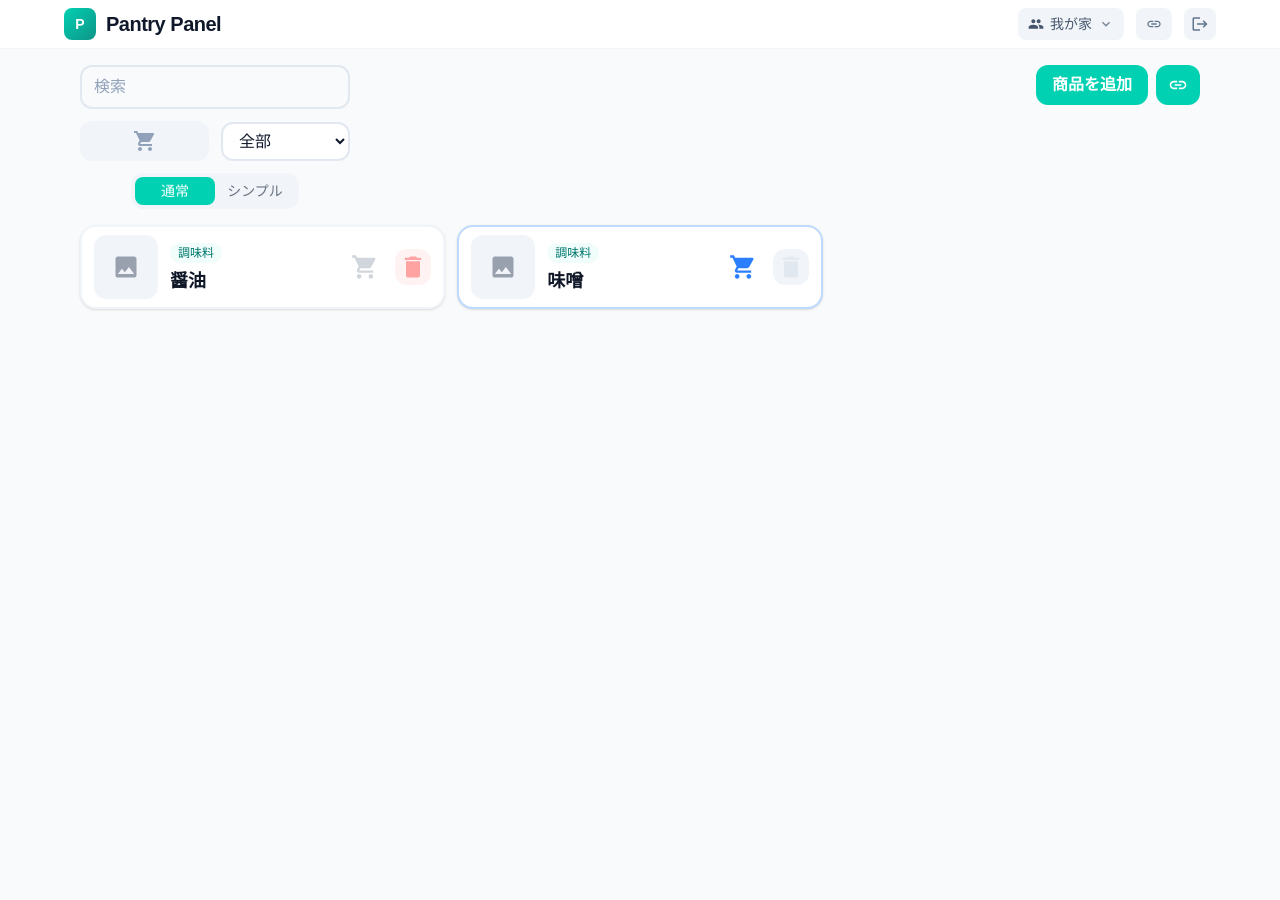
Test case: StockItemsClient › カテゴリフィルタ選択済み状態で「商品を追加」を押すと CreateItemModal のカテゴリフィールドに初期値がセットされる
The image size is (1280, 900).
Check: the heading "醤油" is shown, box 170,270 -> 206,290
Select "調味料" in the dropdown named "カテゴリ": (286, 141) 221,122 -> 350,160
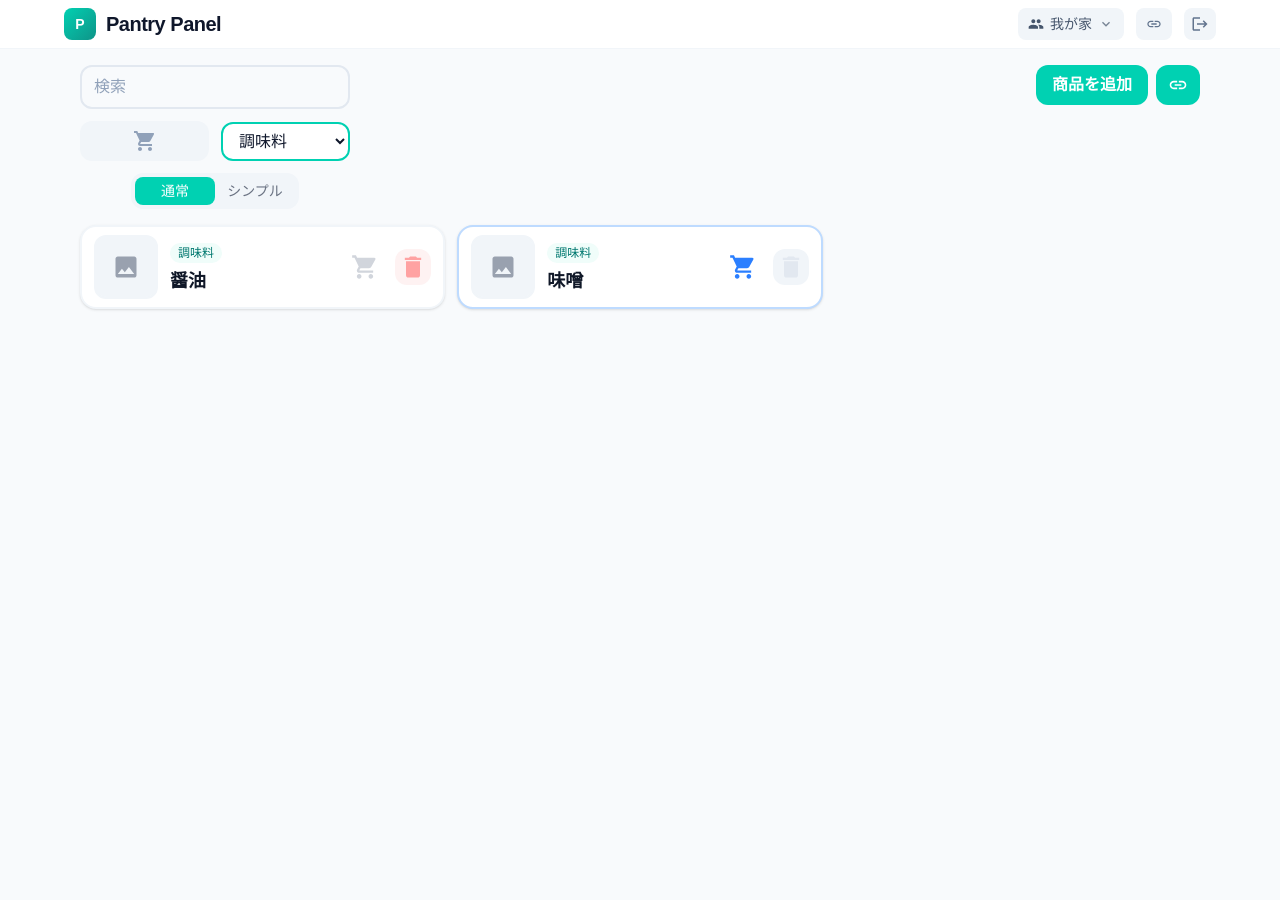
Click the button "商品を追加": (1092, 85) 1036,65 -> 1148,105
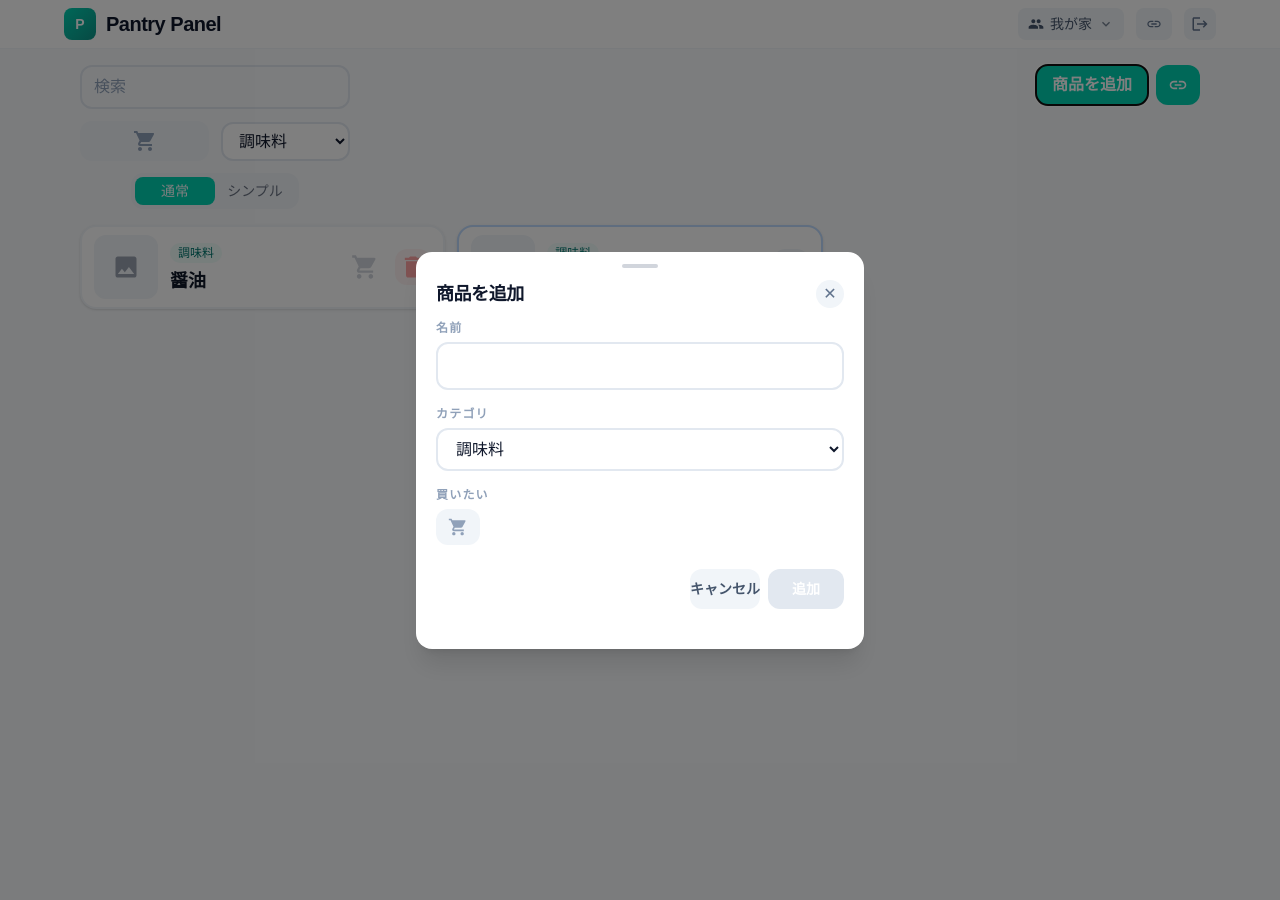
Check: the dropdown labelled "カテゴリ" shows "調味料", box 436,428 -> 844,470
